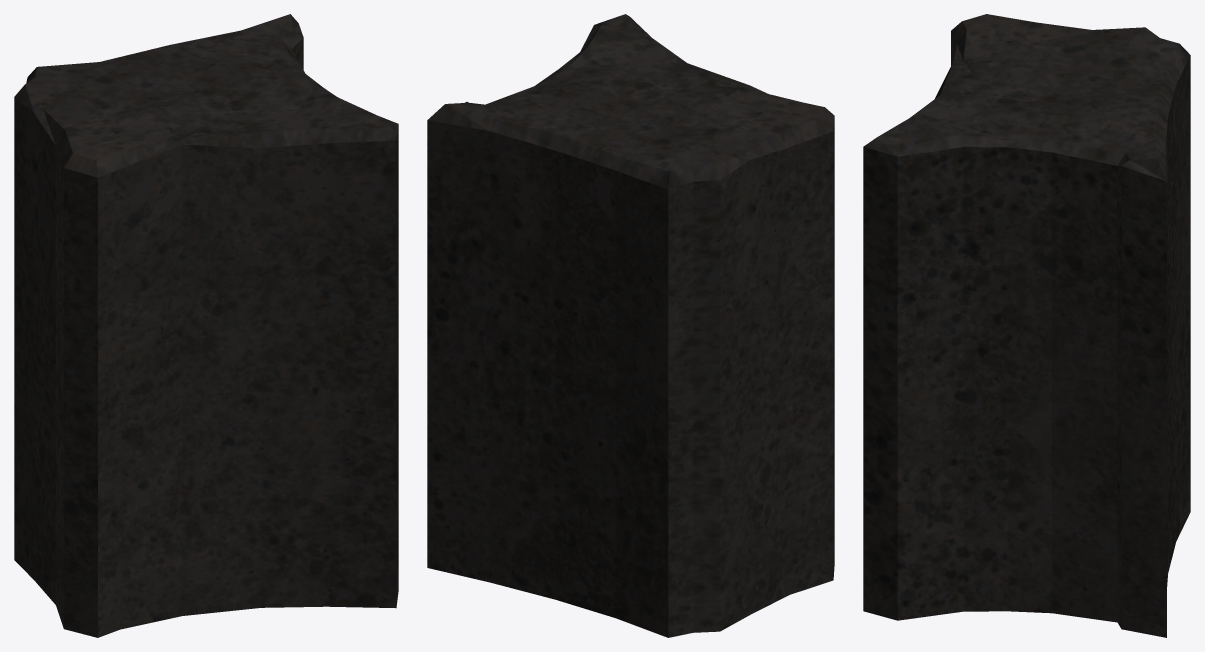
The model's file is TrapFloorS04.fbx.
3 views of the same model, side by side, from view 1: azimuth 30°, elevation 25°; view 2: azimuth 150°, elevation 25°; view 3: azimuth 270°, elevation 25° (orthographic). The views are drawn at different scales.
Visible parts, largest first — view 1: SM_ENV_NATURE_Cave_Floor_Trap_01.mo; view 2: SM_ENV_NATURE_Cave_Floor_Trap_01.mo; view 3: SM_ENV_NATURE_Cave_Floor_Trap_01.mo.
Boxes of the visible parts, x1,y1,x2,y2 form: SM_ENV_NATURE_Cave_Floor_Trap_01.mo: [14, 14, 398, 637]; SM_ENV_NATURE_Cave_Floor_Trap_01.mo: [427, 14, 834, 637]; SM_ENV_NATURE_Cave_Floor_Trap_01.mo: [863, 14, 1190, 637].
Bounding box in the file's own units: 132 × 183 × 115.
Materials: 1 (1 with a texture image).
